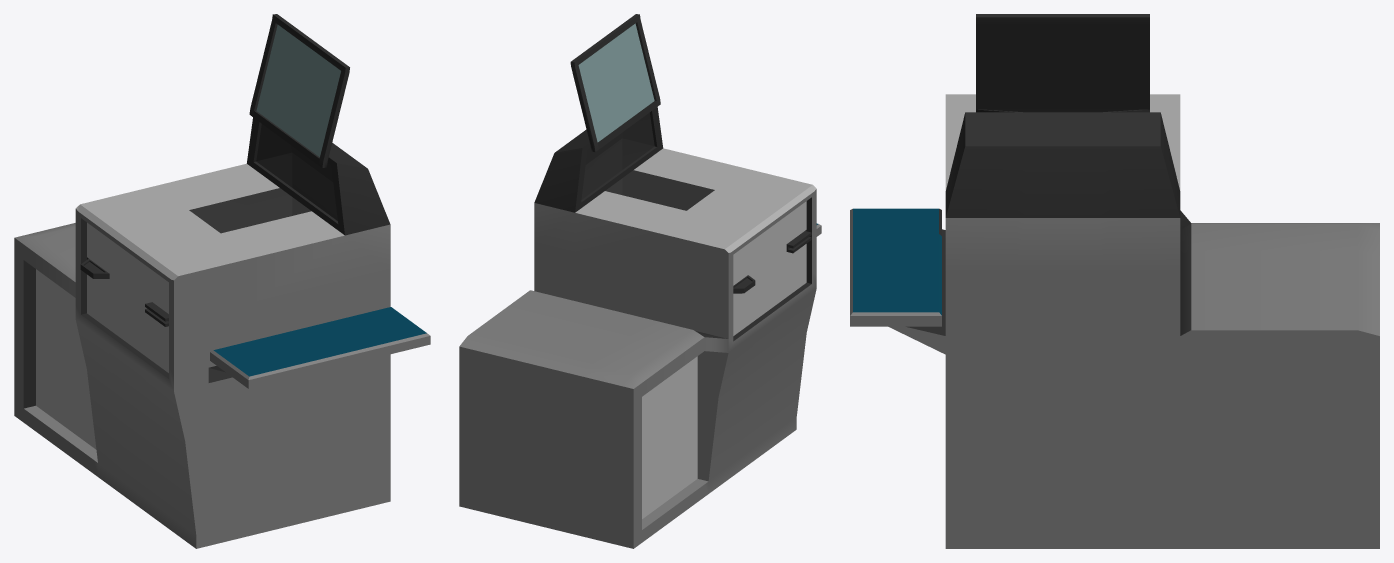
Rendered from SelfCheckout.fbx.
3 renders of one model, left to right at view 1: azimuth 30°, elevation 25°; view 2: azimuth 150°, elevation 25°; view 3: azimuth 270°, elevation 25°, orthographic. The views are drawn at different scales.
Visible parts, largest first — view 1: SelfCheckout; view 2: SelfCheckout; view 3: SelfCheckout.
Part boxes in pixels (bbox=[...]): SelfCheckout: bbox=[14, 14, 430, 548]; SelfCheckout: bbox=[459, 14, 821, 548]; SelfCheckout: bbox=[850, 14, 1379, 548].
Size of the model in its own units: 64.83 by 120 by 112.
